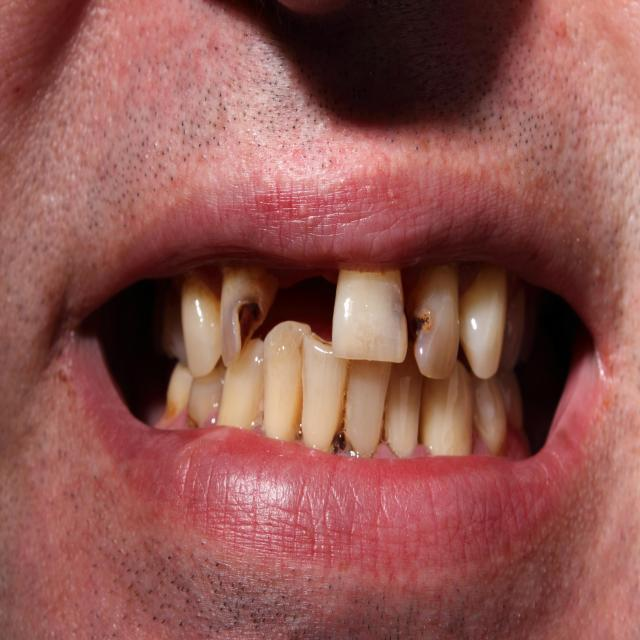caries: (220, 264, 275, 370), (412, 262, 460, 380)
